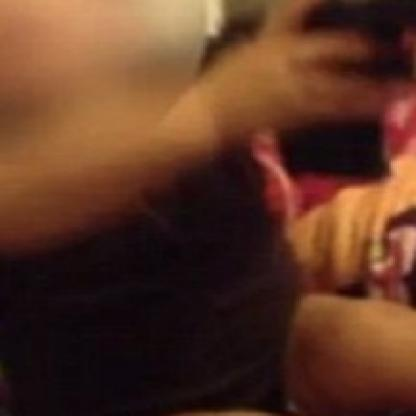gun: (222, 0, 414, 189)
